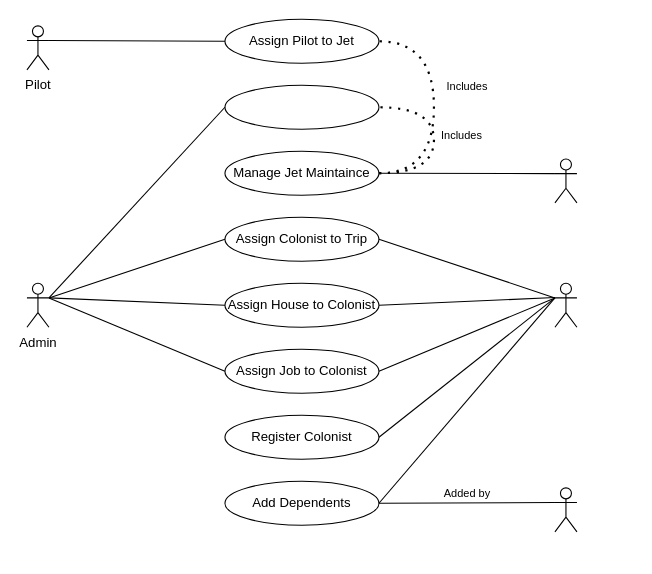
Some shapes in this 652 by 574 pixel diagram are drawn without their labels. The shapes that lost their labels are listed below. From the top down, each one's box as (x1, y1, x2, y2) in pixels, then its label:
(224, 84, 379, 129): Schedule Trip
(554, 158, 577, 203): Jet Maintenance Crew
(554, 282, 577, 327): Colonist
(554, 487, 577, 532): Dependent
